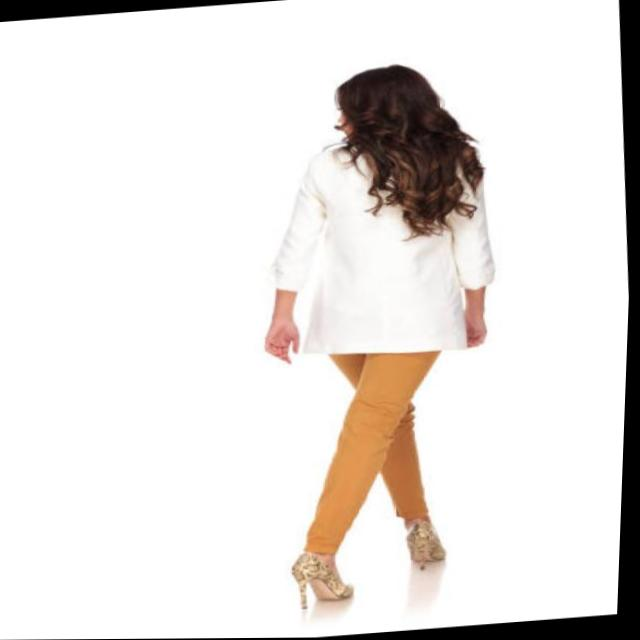no helmet: (319, 57, 465, 159)
